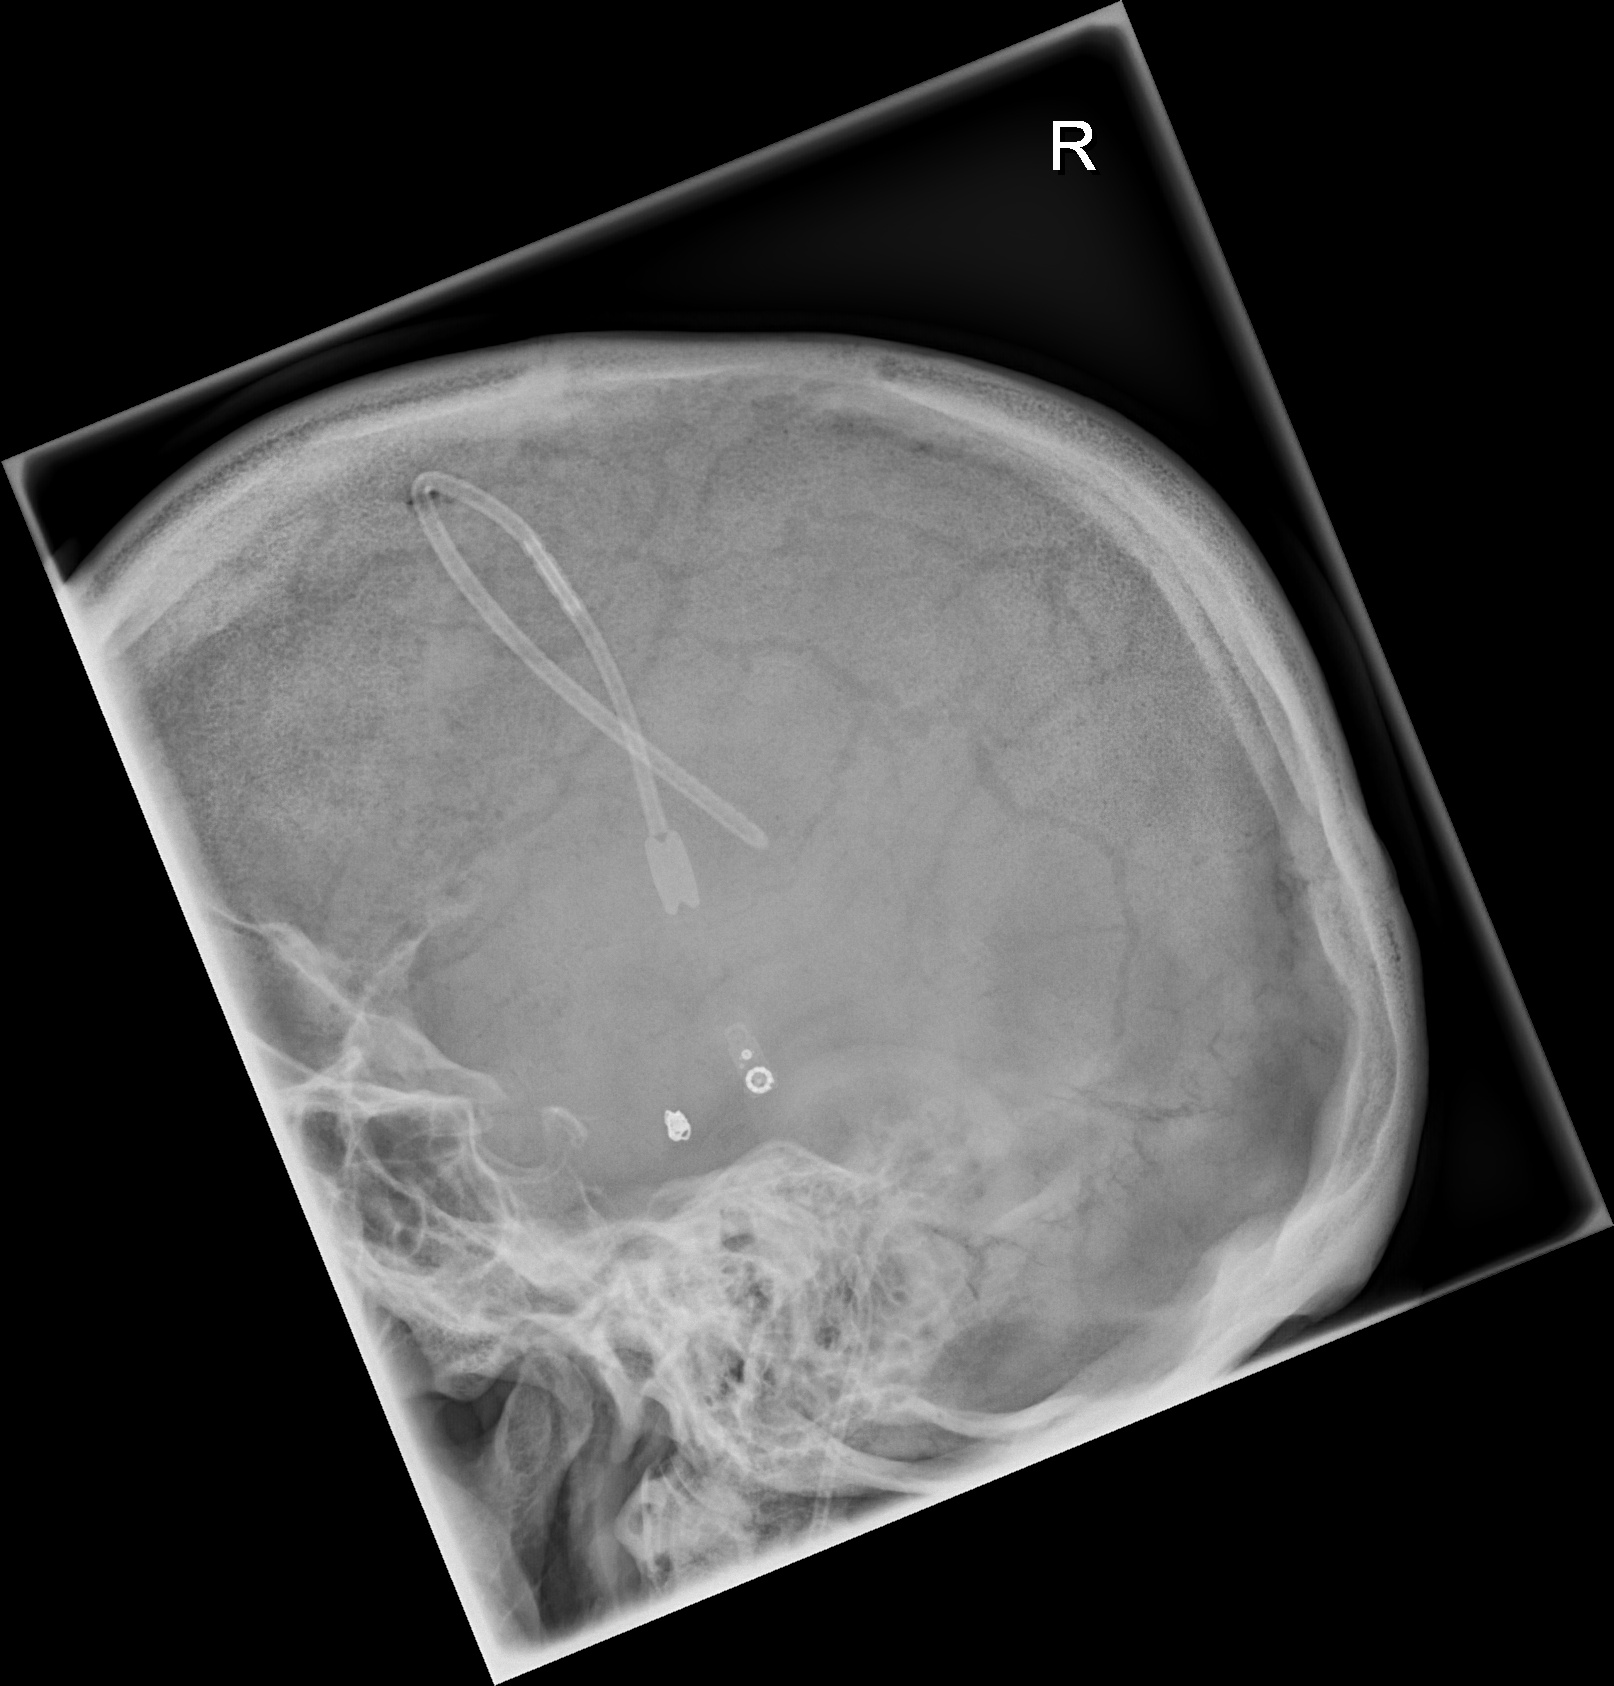Codman Hakim: (708, 1013, 789, 1109)
